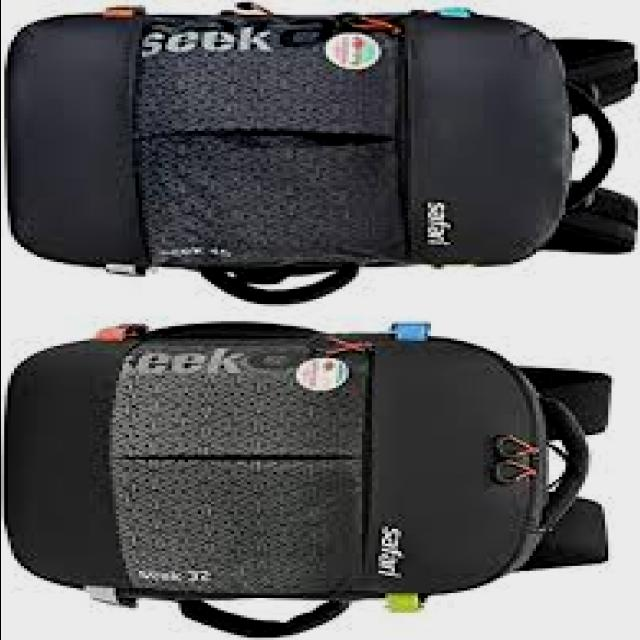backpack: (5, 320, 615, 639), (8, 1, 640, 305)
